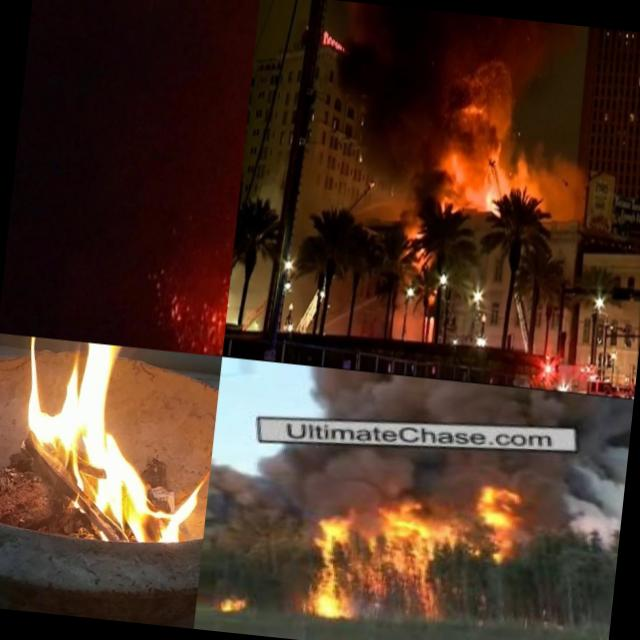fire: (6, 336, 217, 562), (303, 474, 527, 636), (476, 153, 510, 217), (441, 161, 482, 207), (220, 589, 252, 619)
smoke: (518, 453, 626, 558), (432, 50, 520, 162), (505, 140, 590, 222)
